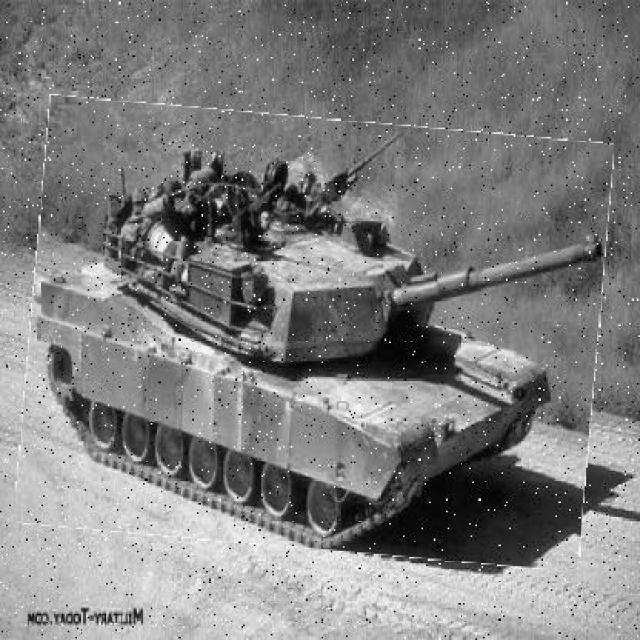Tank: (24, 107, 607, 561)
